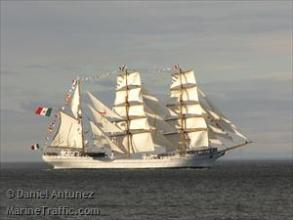fanchuan: (31, 65, 251, 170)
